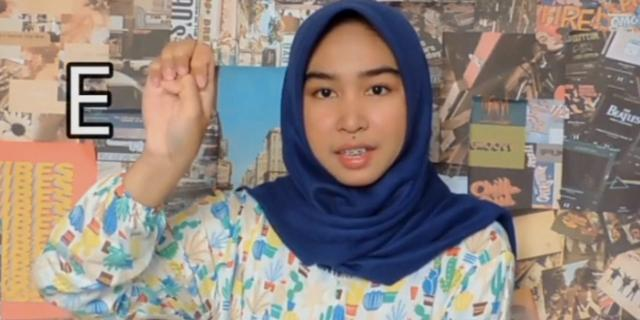E: (140, 39, 216, 154)
